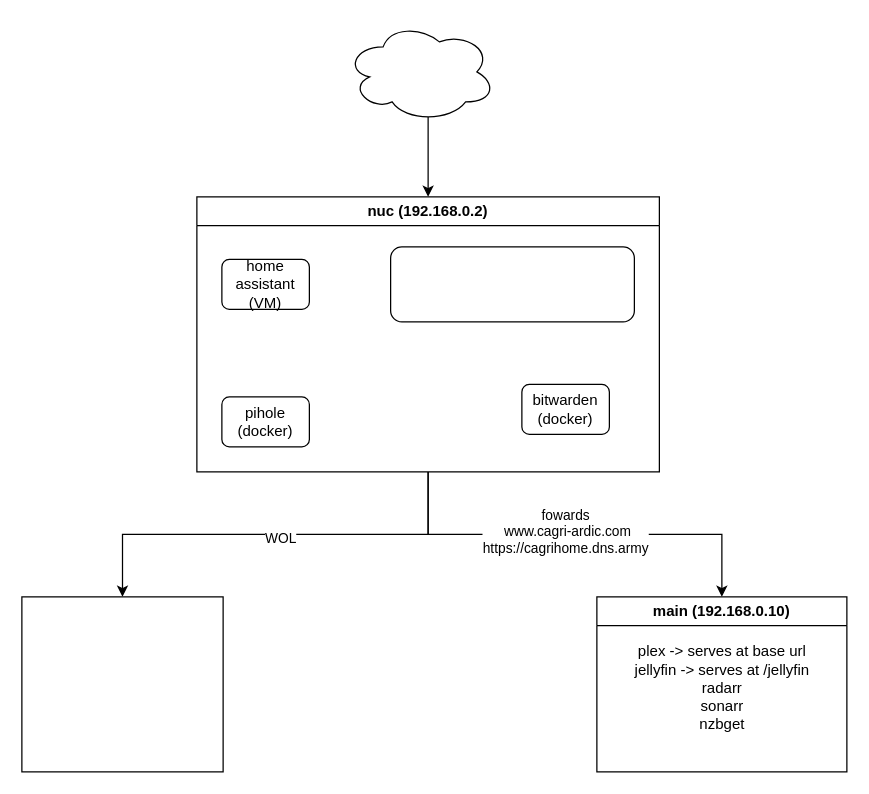
The diagram is 869 pixels wide and 794 high, and some of its shapes have lost their labels. The shapes that lost their labels are listed below. From the top down, each one's centre as x and y in pixels, then its label:
point (420, 71): Internet
point (511, 284): nginx www.cagri-ardic.com https://cagrihome.dns.army
point (122, 684): personal_pc
